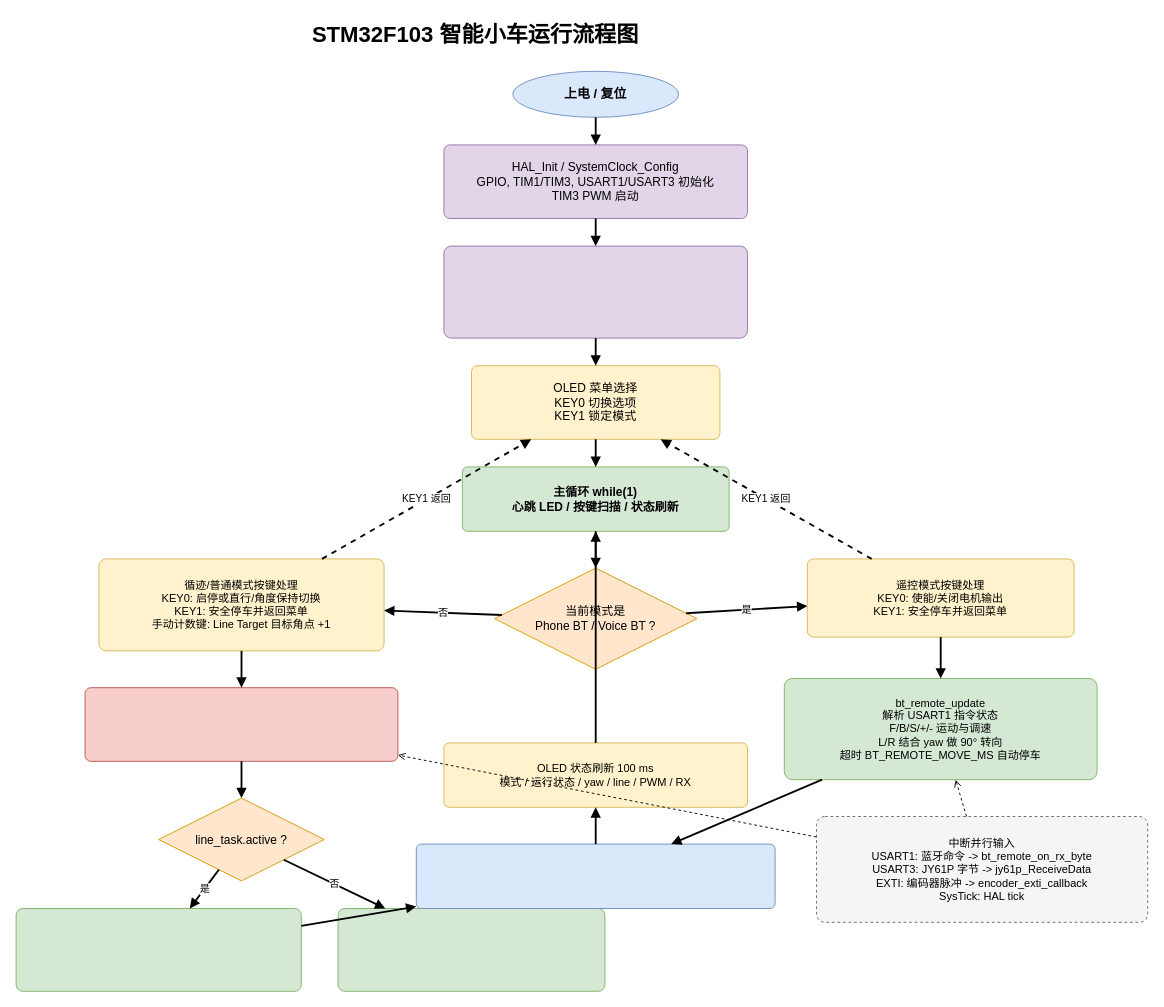
Image size: 1164x1007. Some labels were removed from this diagram. The box of each missing label's shape, as (x1, y1, x2, y2) in pixels:
JY61P yaw 数据是否更新？ 是: PID 计算 turn_pwm 否/超时: 清零并停车保护: (84, 687, 398, 761)
line_task_update 读取 8 路红外 line_err 丢线计角点 / 转向找线 完成 4 角点或目标角点后停车蜂鸣: (15, 908, 301, 991)
load_motor_pwm(left_pwm, right_pwm) TIM3_CH1/CH2 PWM + AIN/BIN 方向控制: (415, 843, 775, 908)
PID 参数初始化 line_task_reset bt_remote_start_rx JY61P UART3 中断接收启动 OLED 初始化: (443, 245, 748, 338)
非循迹直行/角度保持 软启动 current_drive_pwm yaw PID 修正左右 PWM: (337, 908, 605, 991)
